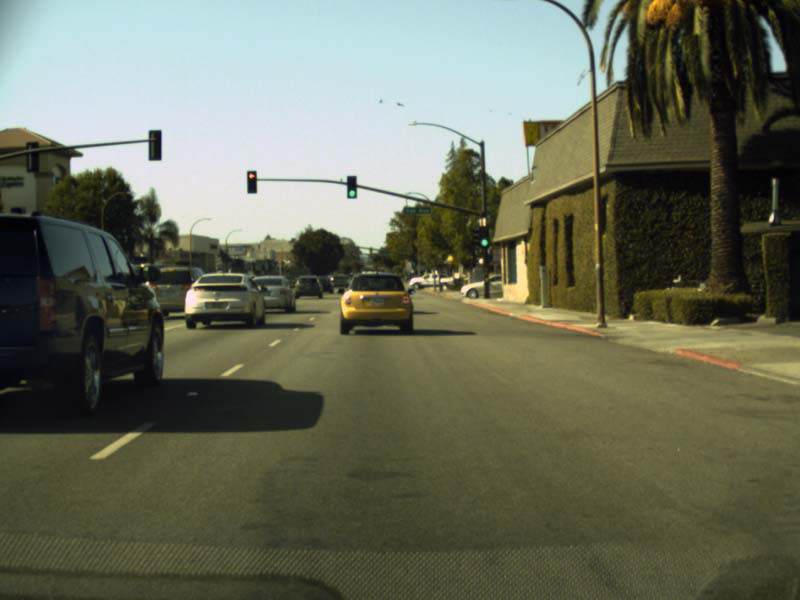Green: (346, 175, 357, 198), (479, 229, 489, 248)
Red: (246, 170, 256, 193)
